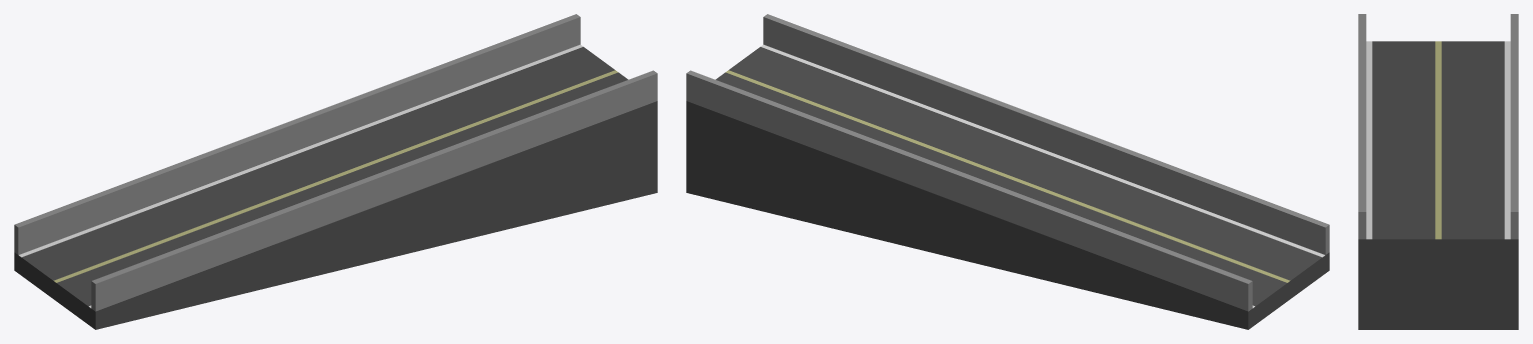
The model's file is ramp.glb.
3 renders of one model, left to right at view 1: azimuth 30°, elevation 25°; view 2: azimuth 150°, elevation 25°; view 3: azimuth 270°, elevation 25°, orthographic.
Visible parts, largest first — view 1: Bridge Ramp C; view 2: Bridge Ramp C; view 3: Bridge Ramp C.
Part boxes in pixels (box(x1,y1,x2,y2)): Bridge Ramp C: box(14, 14, 657, 329); Bridge Ramp C: box(686, 14, 1329, 329); Bridge Ramp C: box(1358, 14, 1518, 329).
Size of what is drawn, in the model's own units: 32 by 6.5 by 8.
1 material, 1 textured.
